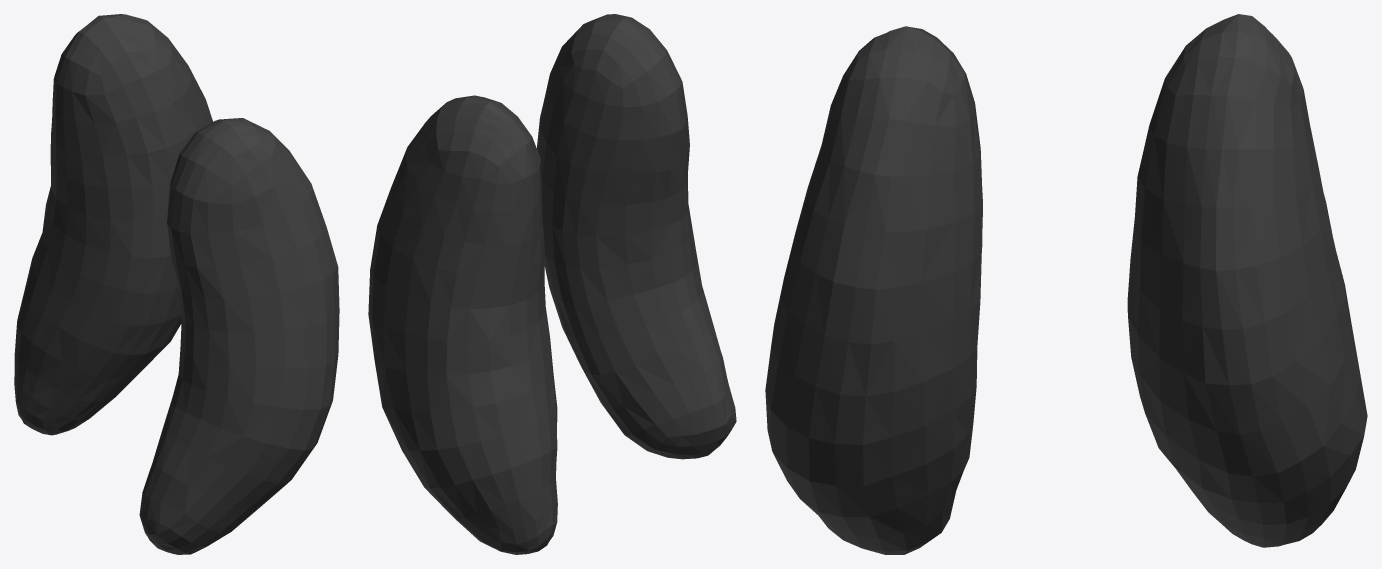
The model's file is proximal_sesamoid_III_L.glb.
The picture shows the model from 3 angles, left to right: view 1: azimuth 30°, elevation 25°; view 2: azimuth 150°, elevation 25°; view 3: azimuth 270°, elevation 25°; orthographic projection. The views are drawn at different scales.
Parts seen in each view (by area): view 1: proximal_sesamoid_III_L; view 2: proximal_sesamoid_III_L; view 3: proximal_sesamoid_III_L.
Boxes of the visible parts, x1,y1,x2,y2 form: proximal_sesamoid_III_L: (14, 14, 339, 554); proximal_sesamoid_III_L: (368, 14, 736, 554); proximal_sesamoid_III_L: (765, 14, 1367, 554).
Bounding box in the file's own units: 0.00632 × 0.0125 × 0.012.
Materials: 1 (1 with a texture image).
